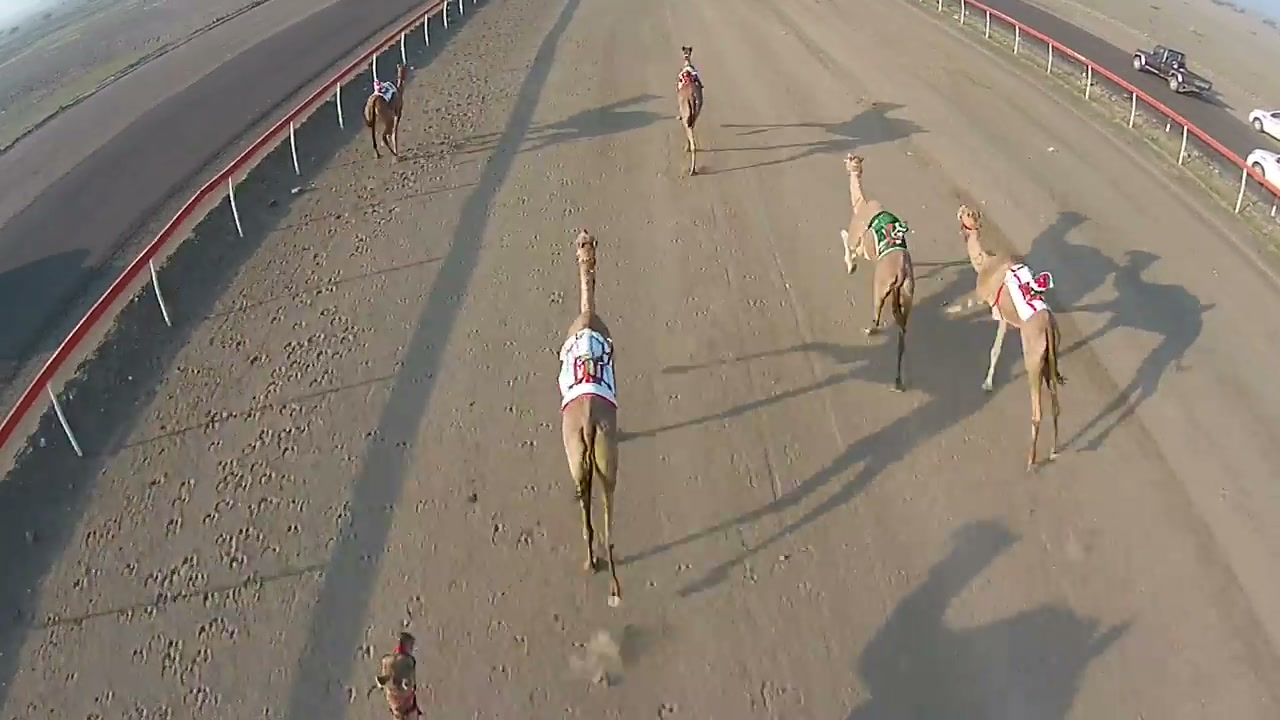animal_foot_print: (128, 162, 382, 706)
